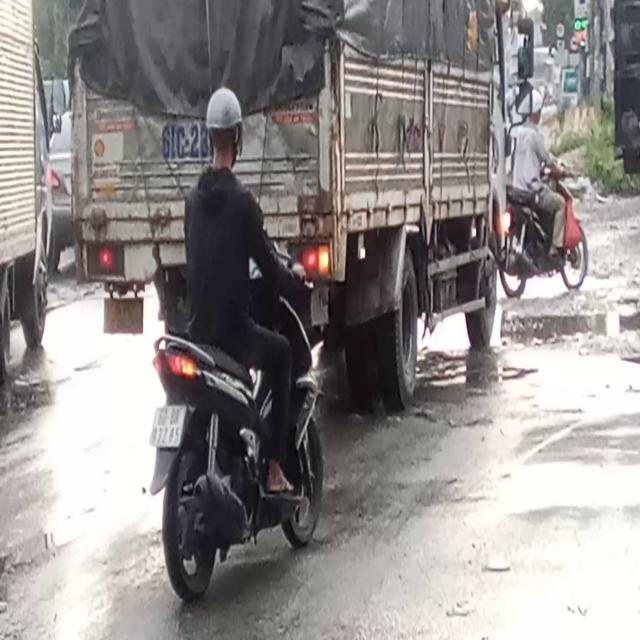bien_trang: (151, 401, 186, 450)
